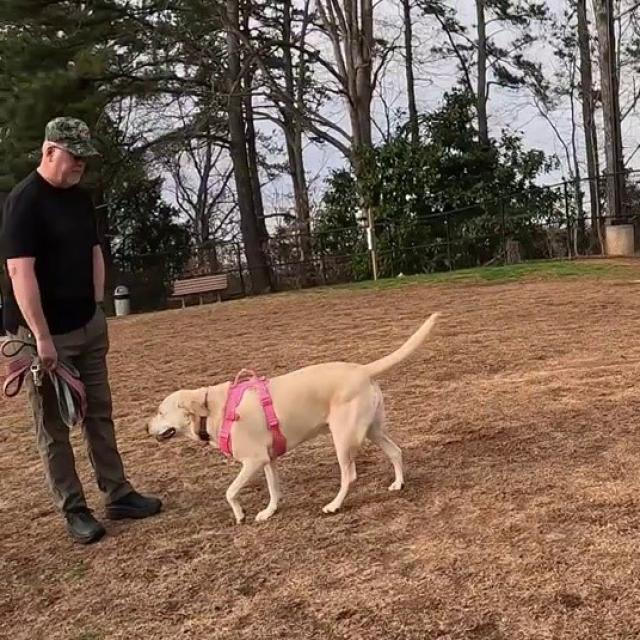Unleashed_Dog: (75, 312, 440, 524)
